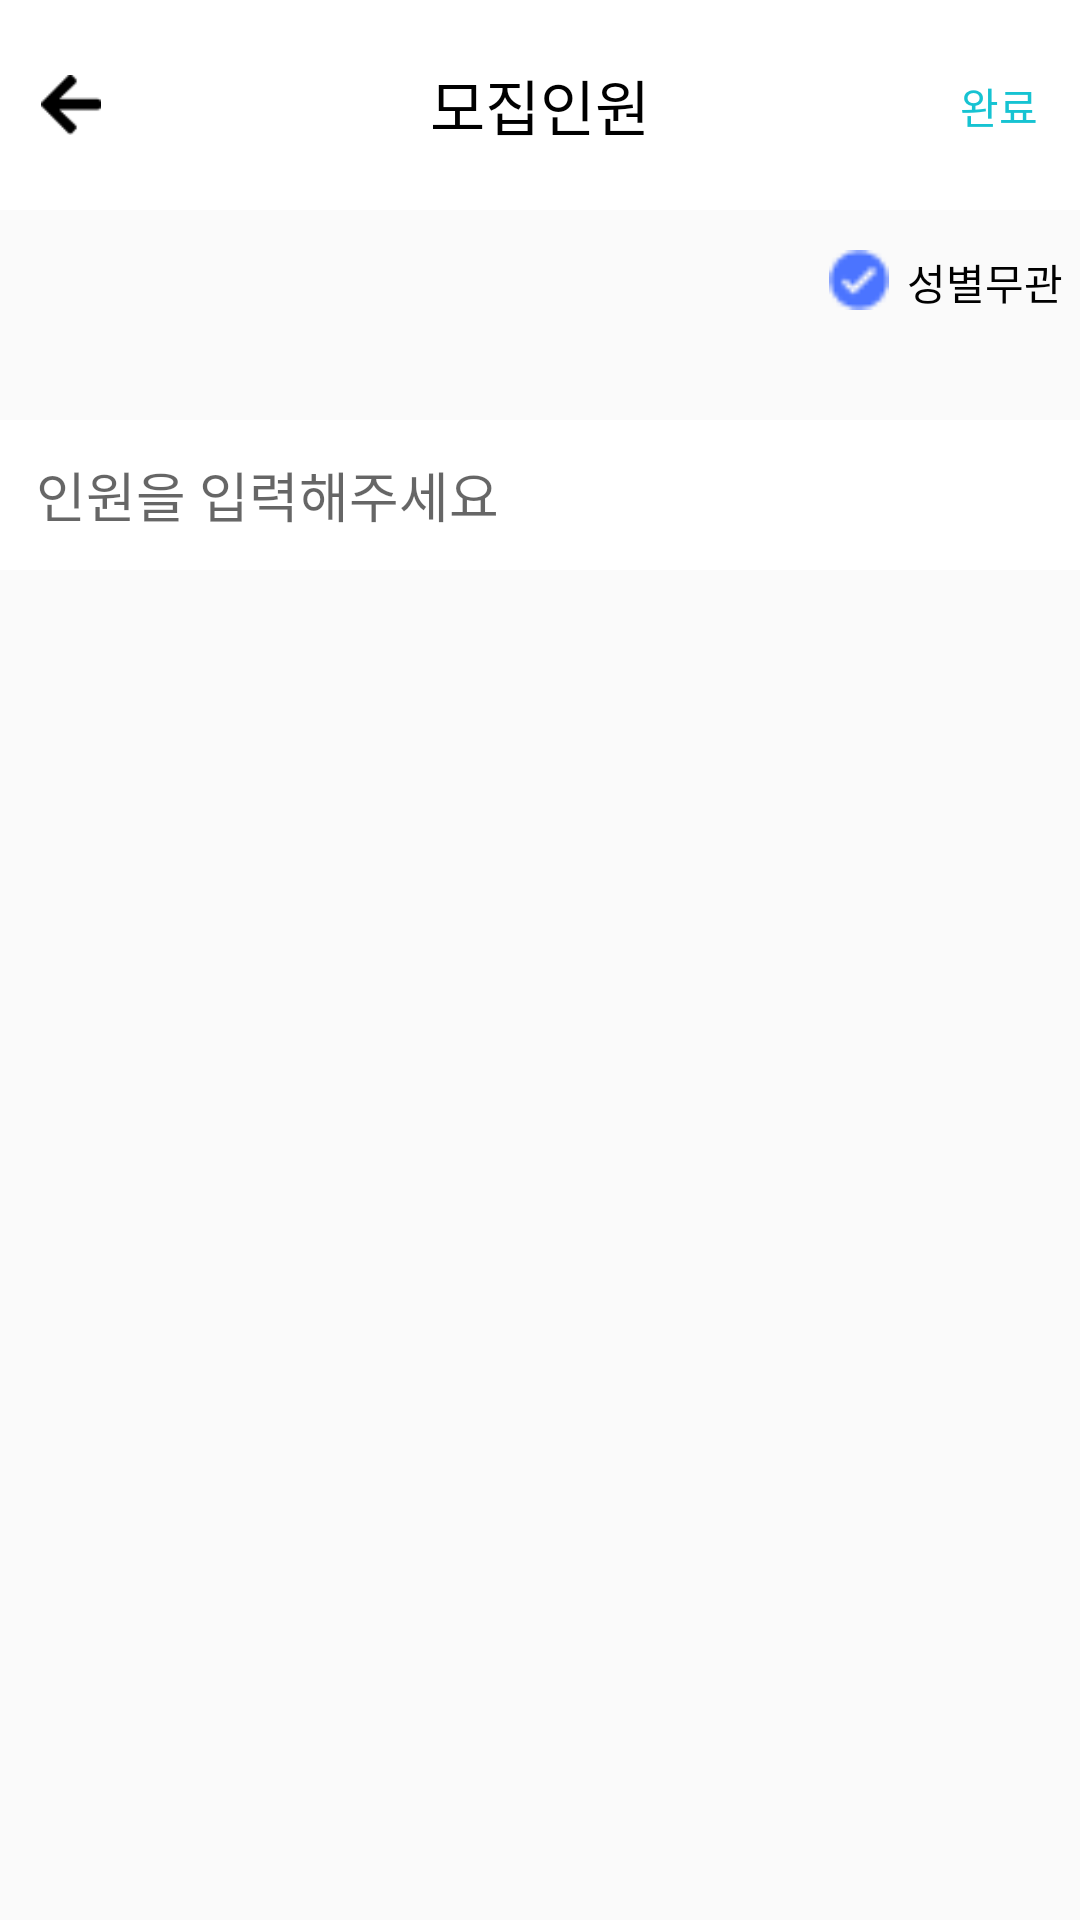

Icon bounding boxes for this 1080 x 1920 phone screenshot, format [x1,y1,x2,y2]:
arrow left: [41,75,101,135]
check: [829,250,889,310]
